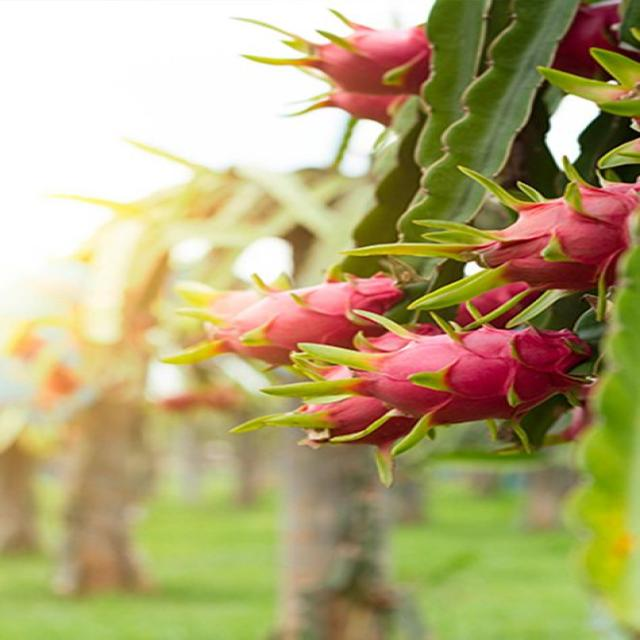Thanh Long: (352, 181, 640, 299), (320, 319, 616, 412), (275, 380, 489, 483), (194, 271, 404, 366), (271, 15, 462, 90), (518, 10, 640, 95), (266, 88, 436, 139)
